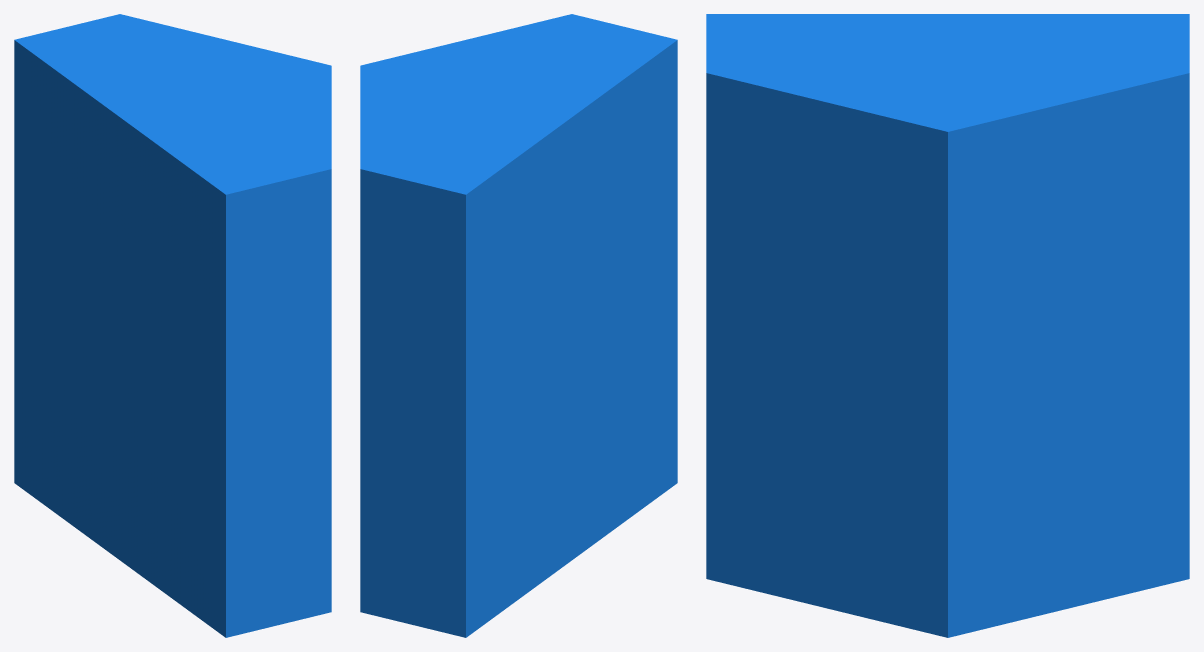
File: Proto_Block_Hexagon_Half_01.fbx
The picture shows the model from 3 angles, left to right: view 1: azimuth 30°, elevation 25°; view 2: azimuth 150°, elevation 25°; view 3: azimuth 270°, elevation 25°; orthographic projection. The views are drawn at different scales.
Parts seen in each view (by area): view 1: Proto_Block_Hexagon_Half_01; view 2: Proto_Block_Hexagon_Half_01; view 3: Proto_Block_Hexagon_Half_01.
Boxes of the visible parts, box(x1,y1,x2,y2) form: Proto_Block_Hexagon_Half_01: box(14, 14, 331, 637); Proto_Block_Hexagon_Half_01: box(360, 14, 677, 637); Proto_Block_Hexagon_Half_01: box(706, 14, 1189, 637).
Size of the model in its own units: 0.5 by 1 by 0.866.
